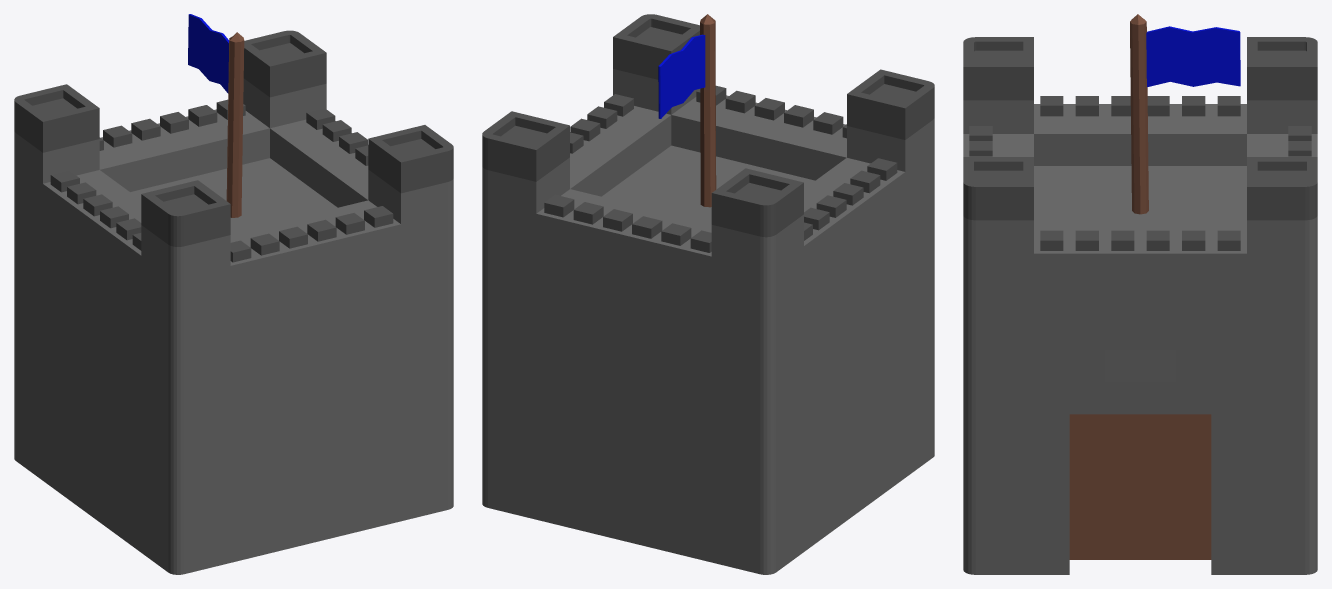
The picture shows the model from 3 angles, left to right: view 1: azimuth 30°, elevation 25°; view 2: azimuth 150°, elevation 25°; view 3: azimuth 270°, elevation 25°; orthographic projection. The views are drawn at different scales.
Parts seen in each view (by area): view 1: Base; view 2: Base; view 3: Base.
Boxes of the visible parts, x1=… form: Base: x1=14, y1=14, x2=453, y2=574; Base: x1=482, y1=14, x2=934, y2=574; Base: x1=963, y1=14, x2=1317, y2=574.
Size of the model in its own units: 2 by 3.03 by 2.
